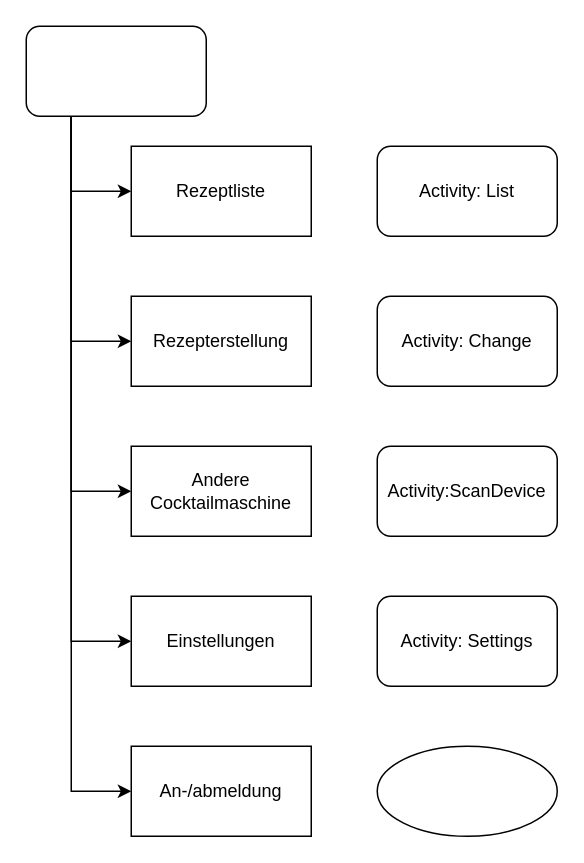
This 584x863 diagram has some shape labels left out. The shapes that lost their labels are listed below. From the top down, each one's box as (x1, y1, x2, y2) in pixels, then its label:
(25, 25, 206, 116): Activity: Menu
(376, 745, 557, 836): Dialog: Anmeldung oder abmelden
